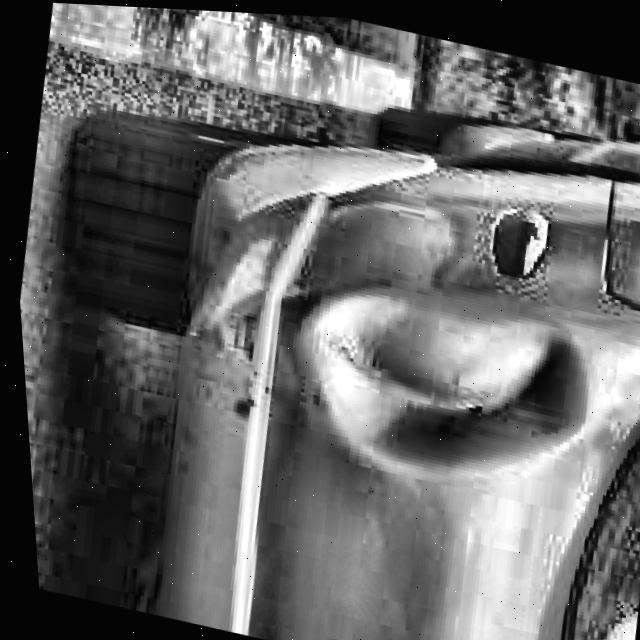bumper_dent: (281, 264, 601, 513)
